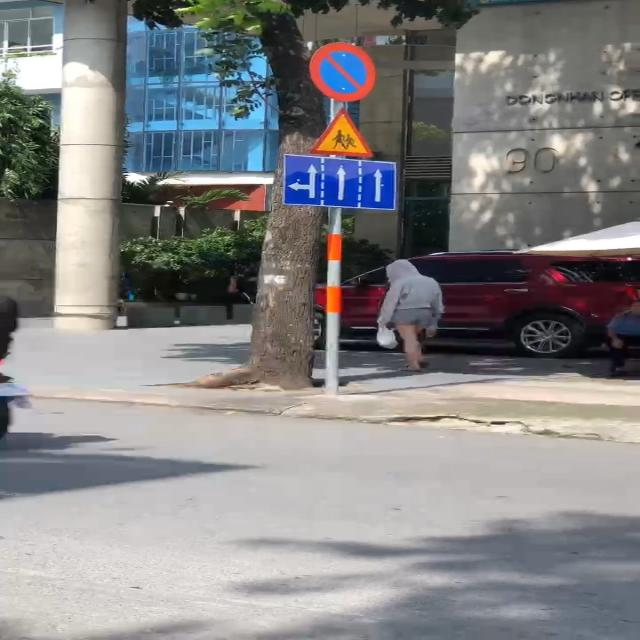Bien bao cam do xe: (305, 42, 390, 102)
Bien bao tre em: (307, 105, 374, 157)
